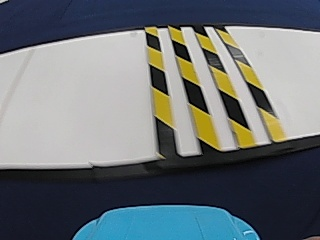bump: (137, 32, 284, 148)
